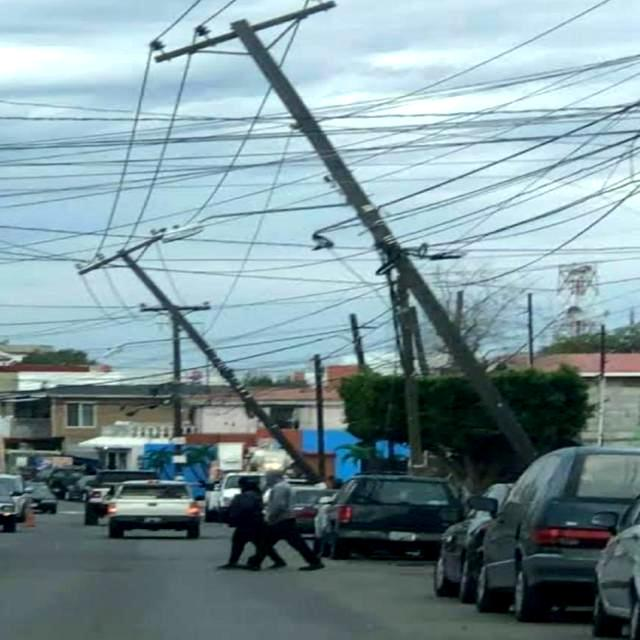Broken Pole: (139, 0, 548, 461), (61, 220, 343, 487)
